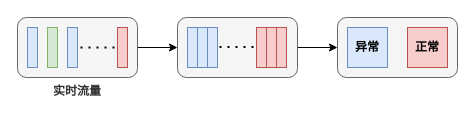
Image size: 475x116. Some labels were removed from this diagram. Each missing label, with the box of its shape:
分类: (336, 16, 458, 78)
特征提取: (176, 16, 298, 78)
